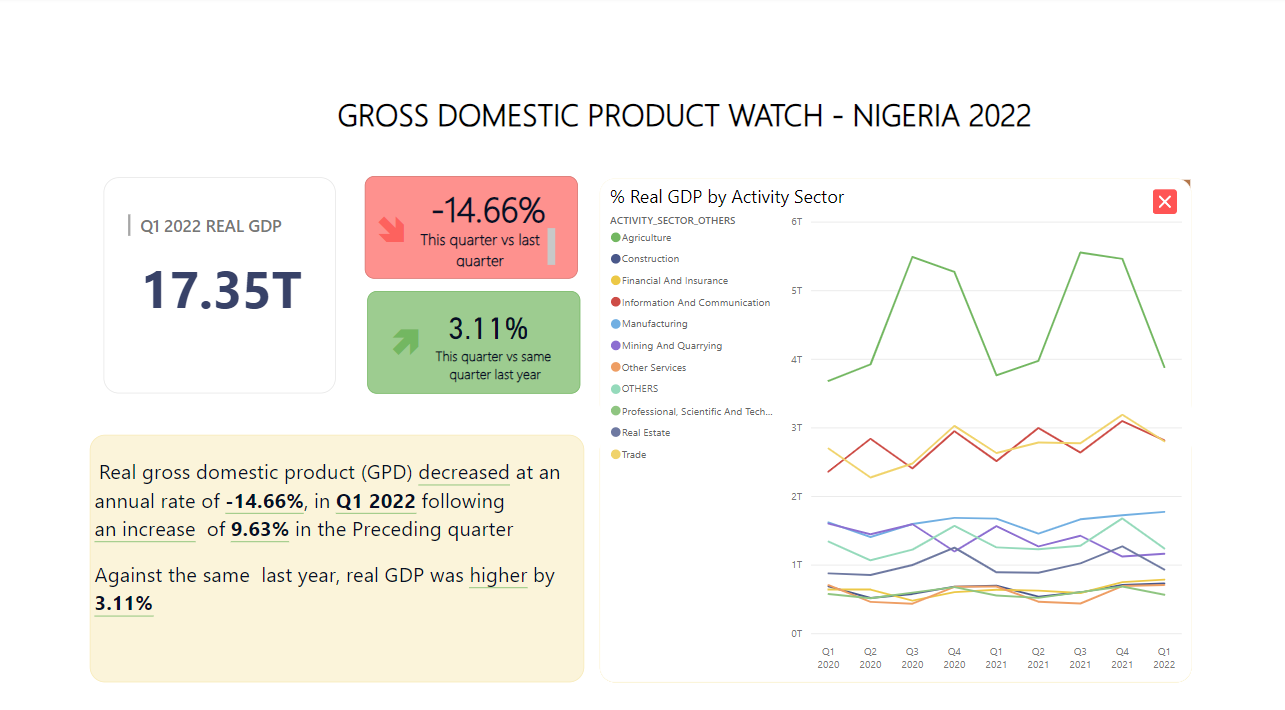

This screenshot's page, from the dashboard's own definition file:
{"tool":"powerbi","page":{"name":"Page 1","canvas":[1366,768],"ordinal":0},"visuals":[{"type":"textbox","title":"QoQ Background","box":[384.9,188.8,222.7,107.5],"z":0,"group":"g1"},{"type":"lineChart","title":"Quarterly Trend of GDP","fields":{"Category":["Date Table.Quarter Year"],"Y":["new calculations.GDP"],"Series":["GDP.GDP_Type"]},"box":[629.8,192,617.5,248.8],"z":0},{"type":"textbox","title":"Expand text","box":[1138.1,192,109.1,47.6],"z":0,"group":"g3"},{"type":"textbox","title":"YoY Background","box":[387.8,307.1,222.7,107.5],"z":0,"group":"g2"},{"type":"card","title":"QoQ Text","fields":{"Values":["new calculations.% QoQ"]},"box":[446.2,178,135.2,89.1],"z":1000,"group":"g1"},{"type":"textbox","title":"Background Line","box":[630.2,190.5,617.8,250.8],"z":1000},{"type":"image","title":"expand button","box":[1076.7,192,61.4,47.6],"z":1000,"group":"g3"},{"type":"card","title":"YoY Text","fields":{"Values":["new calculations.%v YoY"]},"box":[449.2,301.1,130.6,86],"z":1000,"group":"g2"},{"type":"textbox","title":"Text box for Line","box":[333.3,96.8,769.5,56.8],"z":2000},{"type":"card","title":"QoQ Indicator ","fields":{"Values":["new calculations.QoQ indicator"]},"box":[383.6,201,58.4,84.5],"z":2000,"group":"g1"},{"type":"card","title":"YoY Indicator","fields":{"Values":["new calculations.YoY INDICATOR"]},"box":[393.9,319.4,67.6,79.9],"z":2000,"group":"g2"},{"type":"card","title":"Card for current real GDP","fields":{"Values":["new calculations.CURRENT REAL GDP"]},"box":[112.1,188.9,242.7,225.8],"z":3000},{"type":"textbox","title":"Text box","box":[429.3,237.9,159.7,50.7],"z":3000,"group":"g1"},{"type":"textbox","box":[451.6,360.9,139,80],"z":3000,"group":"g2"},{"type":"multiRowCard","title":"Multi-row card for Q1 2022 Real GDP","fields":{"Values":["new calculations.CURRENT QUARTER TEXT"]},"box":[133.6,222.7,199.7,33.8],"z":4000},{"type":"textbox","title":"Analysis background","box":[98.3,457.7,516.1,258],"z":5000},{"type":"textbox","title":"% QoQ by Quarter year background","box":[629.8,457.7,617.5,258],"z":6000},{"type":"group","id":"g1","title":"Group 1","box":[383.6,178,224,118.3],"z":7000},{"type":"group","id":"g2","title":"Group 2","box":[387.8,301.1,222.7,139.8],"z":8000},{"type":"columnChart","title":"% Change in Real GDP Preceding Quarter","fields":{"Category":["Date Table.Quarter Year"],"Y":["new calculations.% QoQ"]},"box":[629.8,457.7,617.5,258],"z":9000},{"type":"textbox","title":"Analysis text box","box":[98.3,457.7,513,258],"z":10000},{"type":"group","id":"g3","title":"Group 3","box":[1076.7,192,170.5,47.6],"z":11000},{"type":"lineChart","title":"% Real GDP by Activity Sector(Top 10)","fields":{"Category":["Date Table.Quarter Year"],"Series":["GDP BY ACTIVITY_SECTOR.ACTIVITY_SECTOR_OTHERS"],"Y":["new calculations.CURRENT REAL GDP"]},"box":[629.8,190.5,617.5,525.3],"z":13000,"group":"g4"},{"type":"image","title":"Image","box":[1190.4,193.6,56.8,43],"z":14000,"group":"g4"},{"type":"group","id":"g4","title":"Group 4","box":[629.8,190.5,617.5,525.3],"z":14001}]}

Visuals, with their boxes in screenshot pixels (x1, y1, x2, y2), scaled from the page's 1366x768 canvas onto the 1285x710 screenshot:
"QoQ Background" textbox: (362,175,572,274)
"Quarterly Trend of GDP" lineChart: (592,178,1173,408)
"Expand text" textbox: (1071,178,1173,222)
"YoY Background" textbox: (365,284,574,383)
"QoQ Text" card: (420,165,547,247)
"Background Line" textbox: (593,176,1174,408)
"expand button" image: (1013,178,1071,222)
"YoY Text" card: (423,278,545,358)
"Text box for Line" textbox: (314,89,1037,142)
"QoQ Indicator " card: (361,186,416,264)
"YoY Indicator" card: (371,295,434,369)
"Card for current real GDP" card: (105,175,334,383)
"Text box" textbox: (404,220,554,267)
textbox: (425,334,556,408)
"Multi-row card for Q1 2022 Real GDP" multiRowCard: (126,206,314,237)
"Analysis background" textbox: (92,423,578,662)
"% QoQ by Quarter year background" textbox: (592,423,1173,662)
"Group 1" group: (361,165,572,274)
"Group 2" group: (365,278,574,408)
"% Change in Real GDP Preceding Quarter" columnChart: (592,423,1173,662)
"Analysis text box" textbox: (92,423,575,662)
"Group 3" group: (1013,178,1173,222)
"% Real GDP by Activity Sector(Top 10)" lineChart: (592,176,1173,662)
"Image" image: (1120,179,1173,219)
"Group 4" group: (592,176,1173,662)
